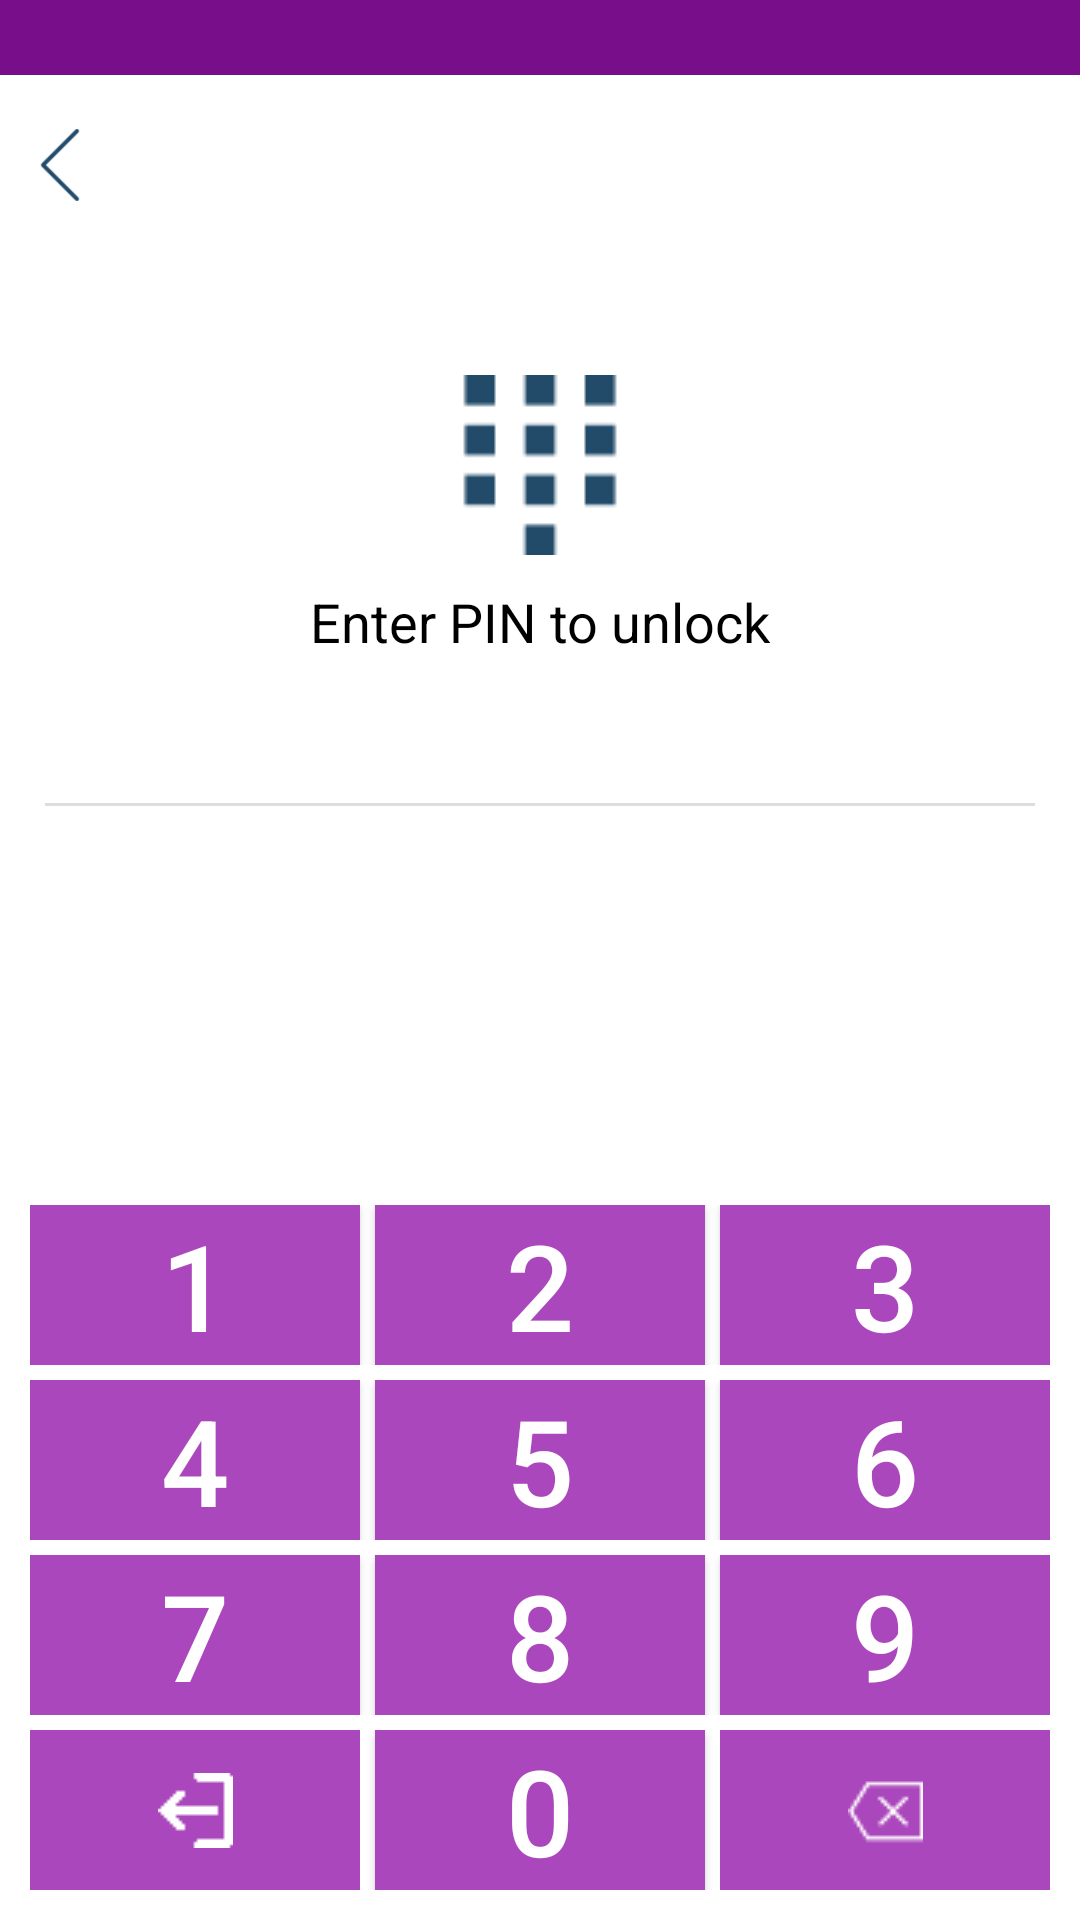

Where to tap for icons on this 1080 x 1920 app screen, as [x,y]:
back: [60,165]
backspace: [885,1810]
dial: [540,465]
